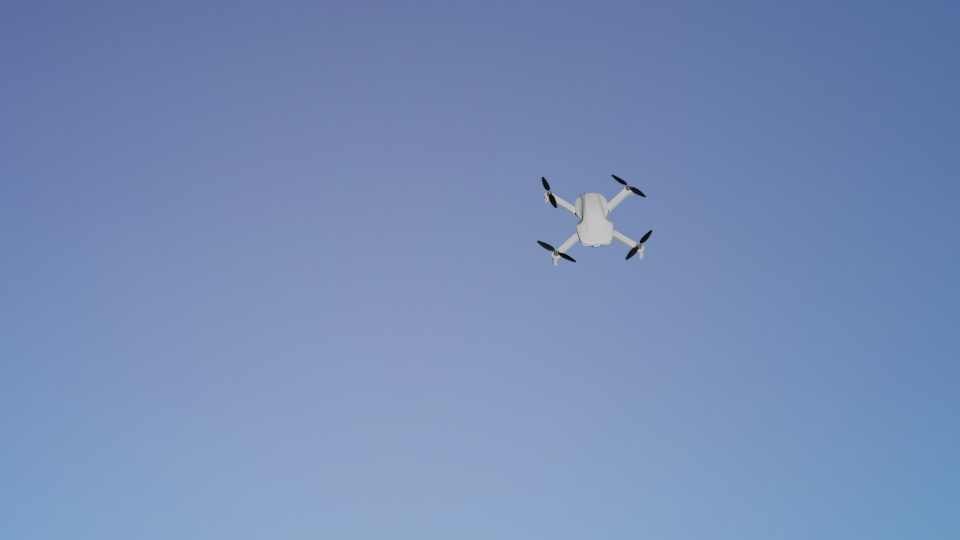drone: (535, 171, 654, 268)
